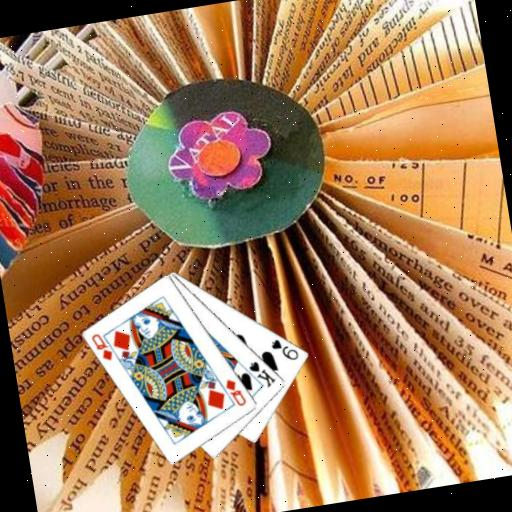9S: (267, 333, 301, 365)
KS: (245, 355, 279, 391)
QD: (87, 328, 115, 364), (221, 373, 248, 409)
